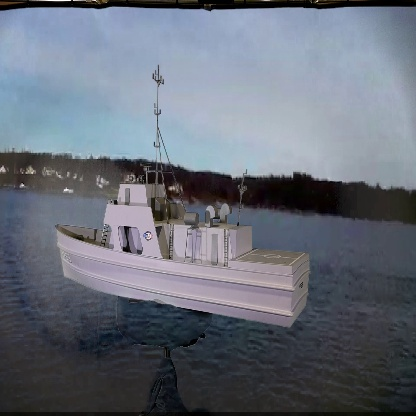YP689: (53, 63, 309, 329)
